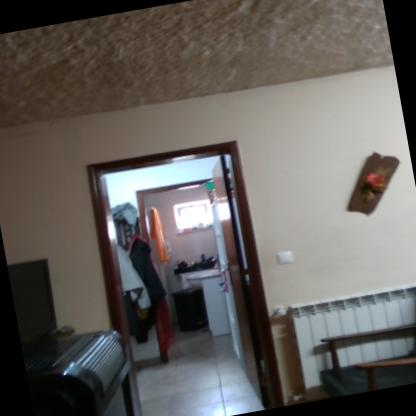open: (73, 122, 298, 415)
